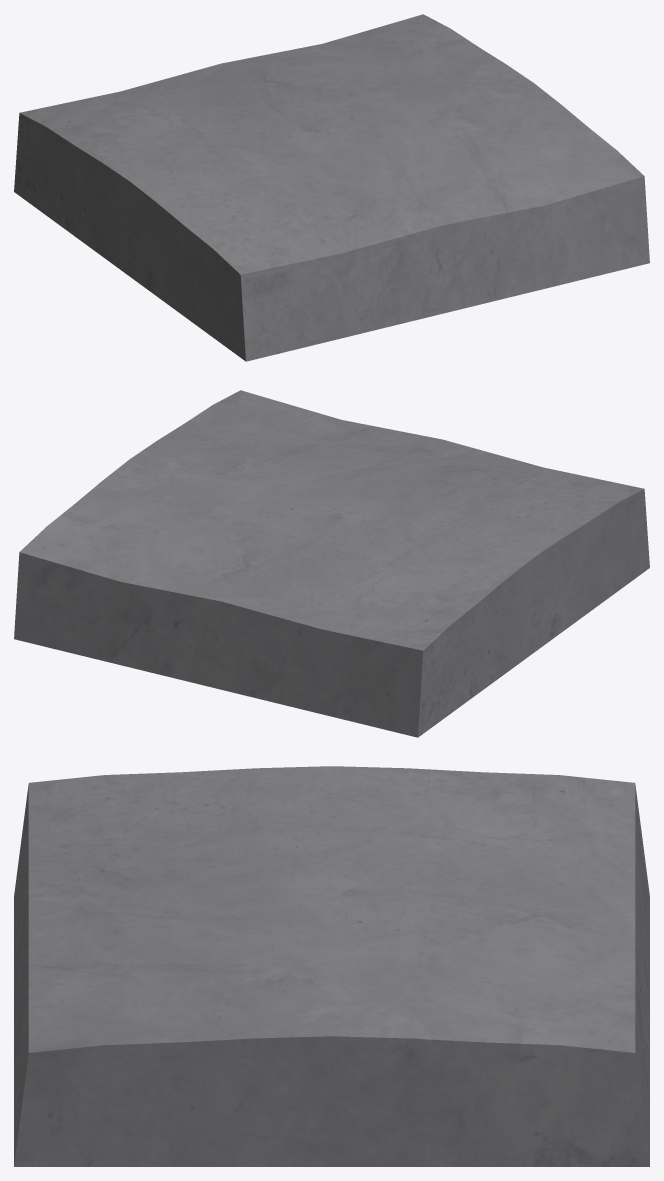
Rendered from SM_Gidan04b.fbx.
3 views of the same model, one above another, from view 1: azimuth 30°, elevation 25°; view 2: azimuth 150°, elevation 25°; view 3: azimuth 270°, elevation 25° (orthographic). The views are drawn at different scales.
Visible parts, largest first — view 1: SM_Gidan04b; view 2: SM_Gidan04b; view 3: SM_Gidan04b.
Part boxes in pixels (x1=…): SM_Gidan04b: x1=14, y1=14, x2=649, y2=361; SM_Gidan04b: x1=14, y1=390, x2=649, y2=737; SM_Gidan04b: x1=14, y1=766, x2=649, y2=1166.
Size of the model in its own units: 145 by 144 by 32.67.
Materials: 1 (1 with a texture image).
